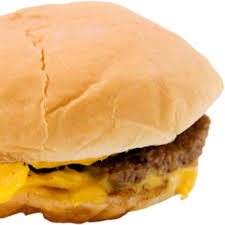hamburger: (1, 1, 220, 225)
